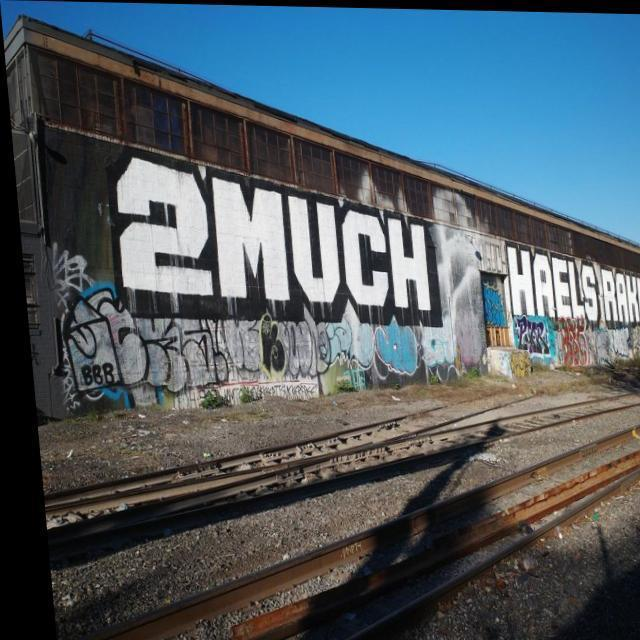-: (98, 138, 440, 324), (500, 238, 640, 324), (106, 302, 226, 390), (227, 304, 326, 376), (367, 314, 413, 374), (68, 344, 116, 394), (552, 316, 585, 365), (509, 314, 545, 357), (476, 279, 499, 325), (328, 539, 354, 559)
